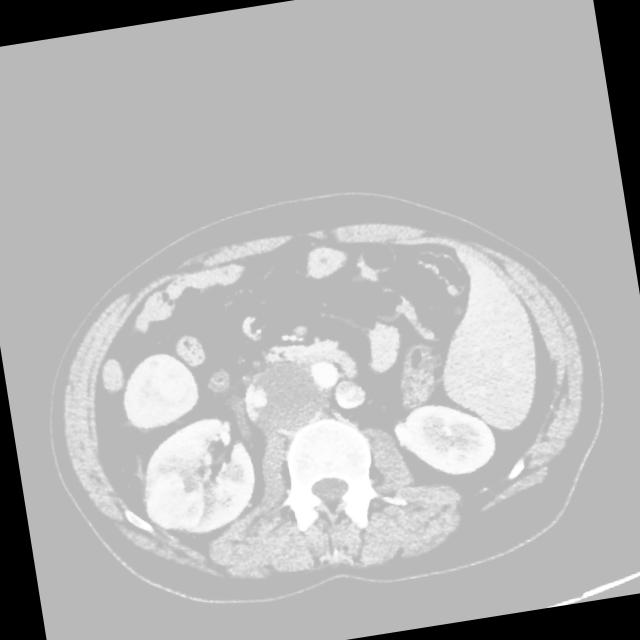TUMOR: (88, 266, 480, 494)
